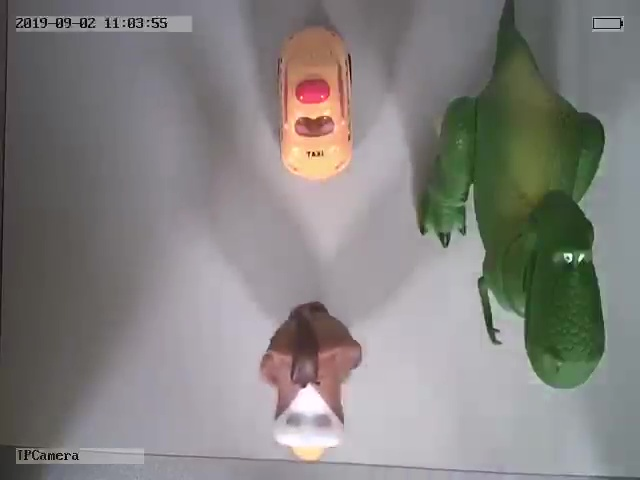car: (277, 22, 356, 180)
horse: (259, 302, 361, 462)
rex: (418, 8, 606, 391)
